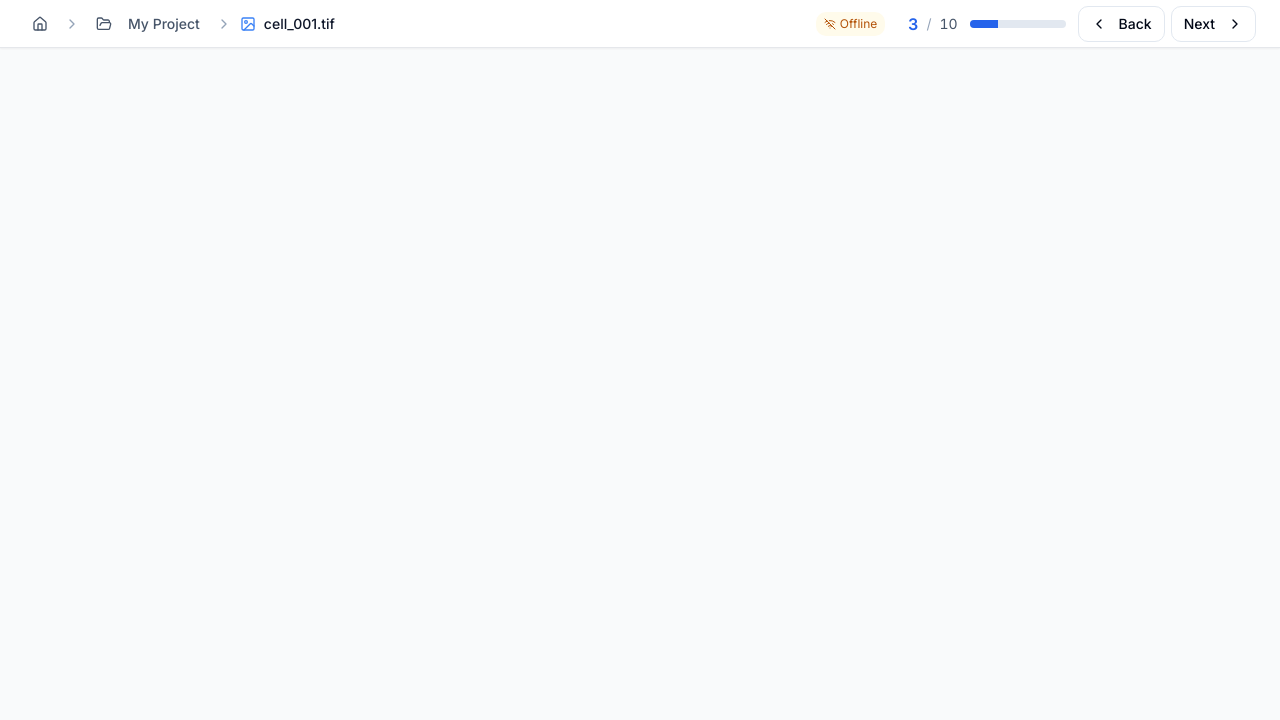
EditorHeader › unsaved changes prompt › prompts even when there is no save handler, offering only discard
This screenshot has width=1280, height=720.
Later steps or results of the test are not shown.
What coordinates should you click on to do the following:
click the button "My Project"
I would click on:
 (148, 24)
Its box is x1=88 y1=6 x2=208 y2=42.
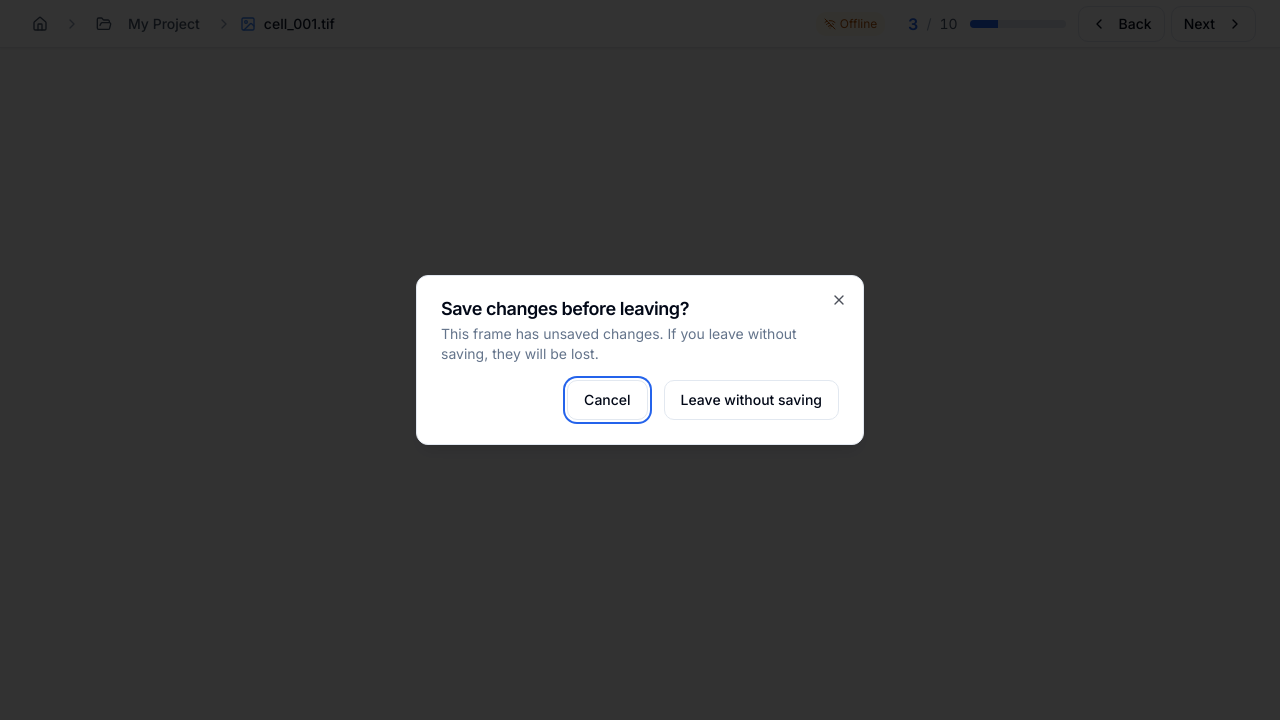
Check: the heading "Save changes before leaving?" is shown, box x1=441 y1=298 x2=689 y2=319
Check: the button with test id "unsaved-changes-discard" is shown, box x1=664 y1=380 x2=839 y2=420
Check: the button "Cancel" is shown, box x1=567 y1=380 x2=648 y2=420
